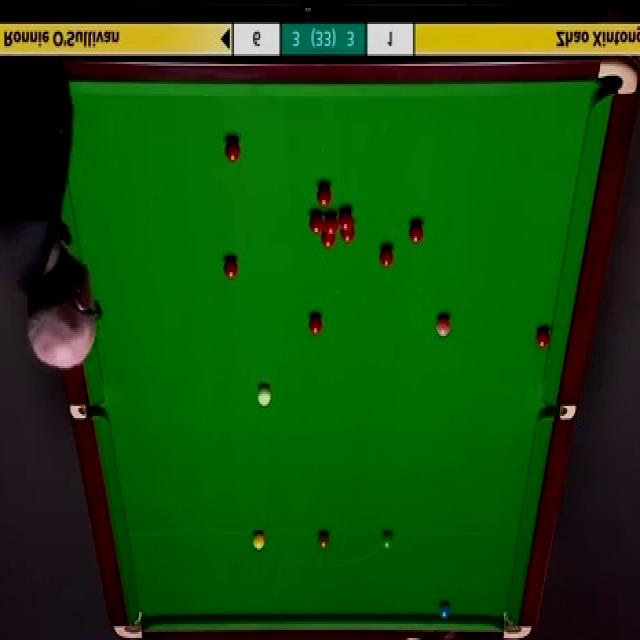pocket: (597, 56, 640, 98), (500, 608, 534, 640), (111, 611, 145, 640), (68, 403, 104, 419), (542, 405, 576, 420)
